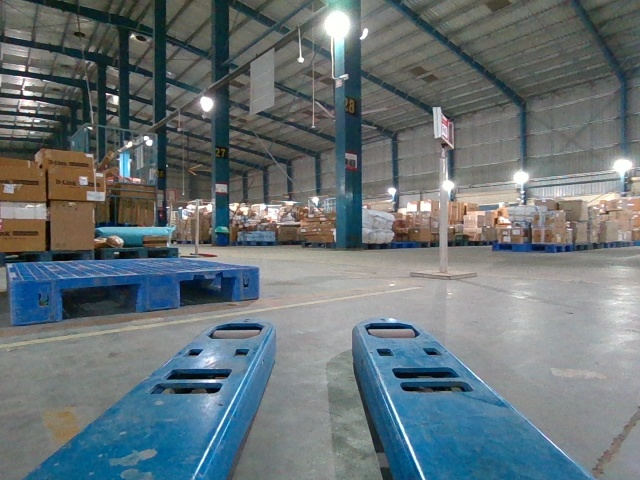block: (10, 280, 62, 322), (139, 272, 179, 311), (232, 269, 260, 299)
front: (12, 267, 259, 324)
hole pallet: (60, 284, 138, 318), (178, 277, 234, 309)
